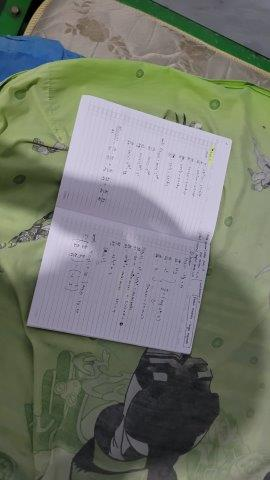kertas: (24, 96, 233, 355)
